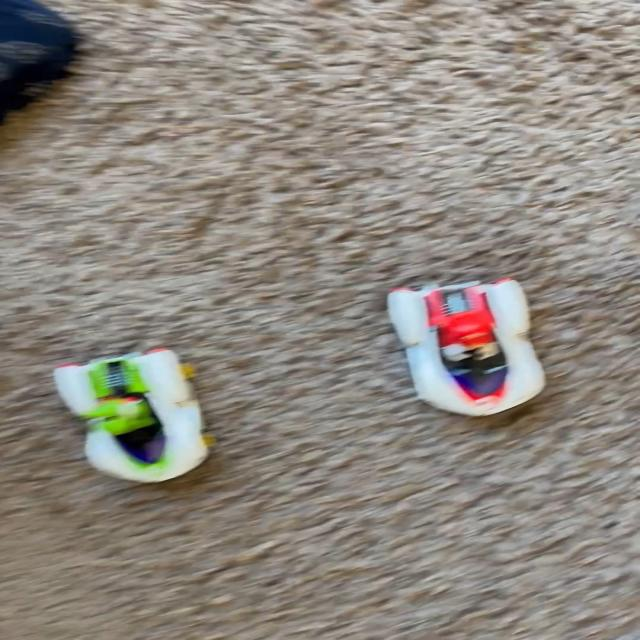mario: (381, 267, 562, 430)
yoshi: (49, 339, 235, 497)
